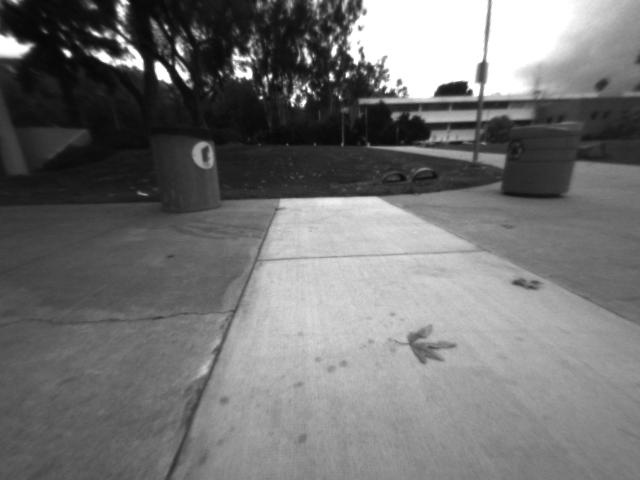trashcan: (153, 124, 222, 215), (506, 121, 580, 195)
